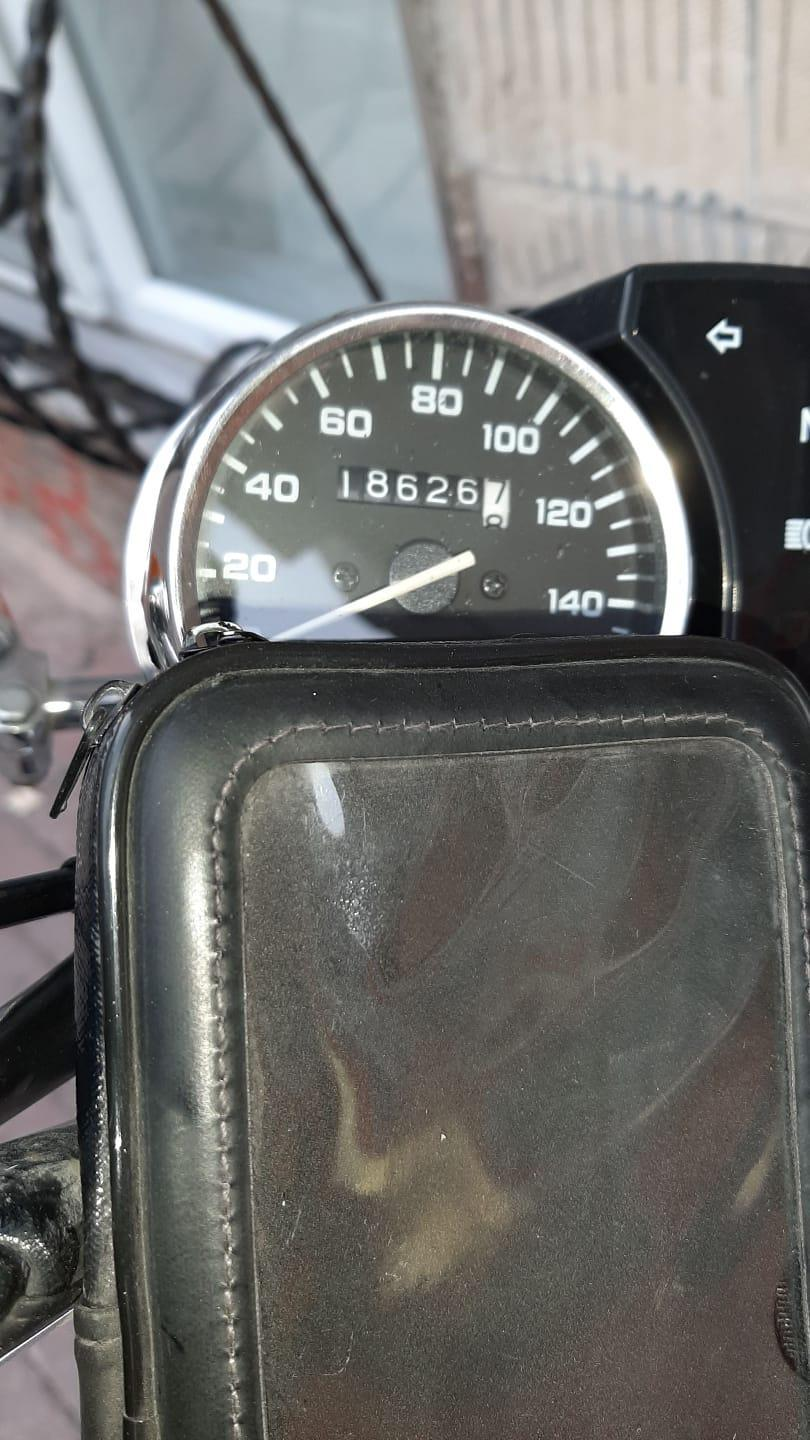1: (338, 463, 355, 511)
2: (423, 473, 449, 509)
6: (394, 468, 417, 504), (455, 474, 479, 505)
7: (486, 473, 508, 509)
8: (363, 464, 387, 504)
odometer: (330, 460, 520, 535)
